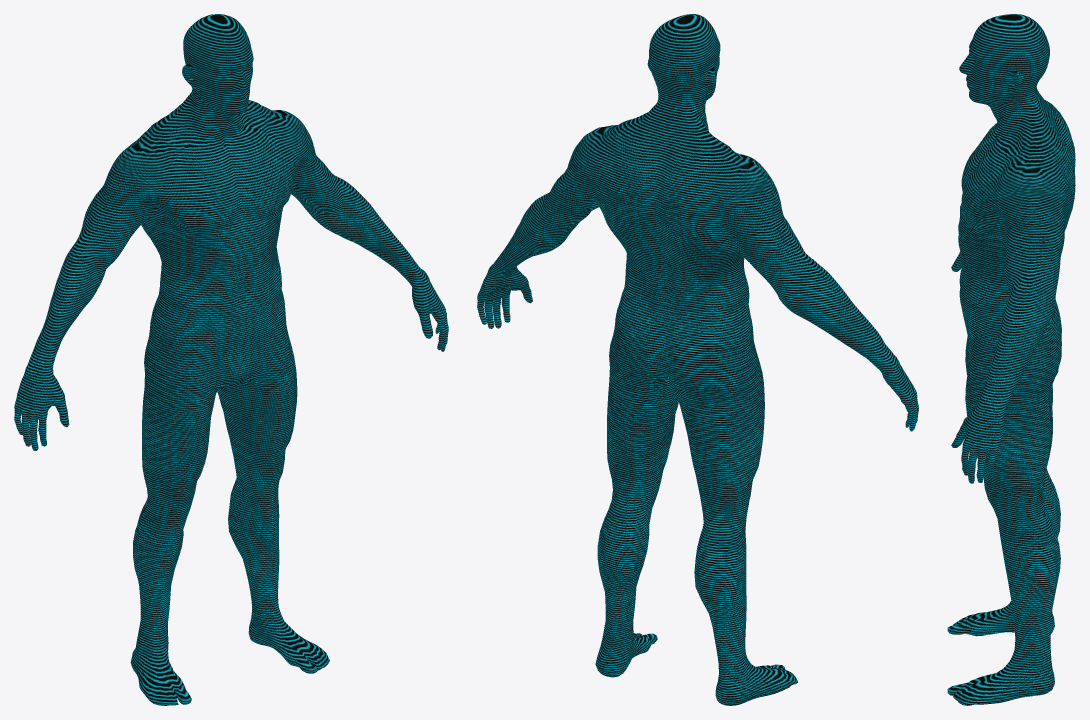
The model's file is FIXED HOLOGRAM M.glb.
3 views of the same model, side by side, from view 1: azimuth 30°, elevation 25°; view 2: azimuth 150°, elevation 25°; view 3: azimuth 270°, elevation 25° (orthographic).
Visible parts, largest first — view 1: MaleHologram; view 2: MaleHologram; view 3: MaleHologram.
Boxes of the visible parts, x1,y1,x2,y2 form: MaleHologram: (14, 14, 448, 705); MaleHologram: (477, 14, 918, 705); MaleHologram: (947, 14, 1075, 705).
Size of the model in its own units: 1.26 by 1.83 by 0.3274.
1 material, 1 textured.
